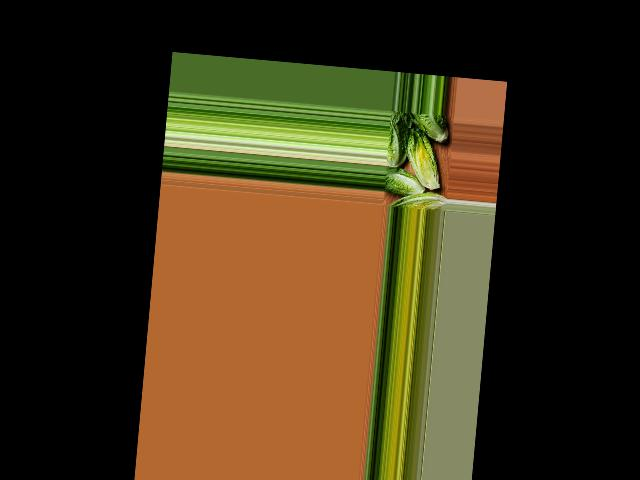lettuce: (390, 187, 446, 212)
